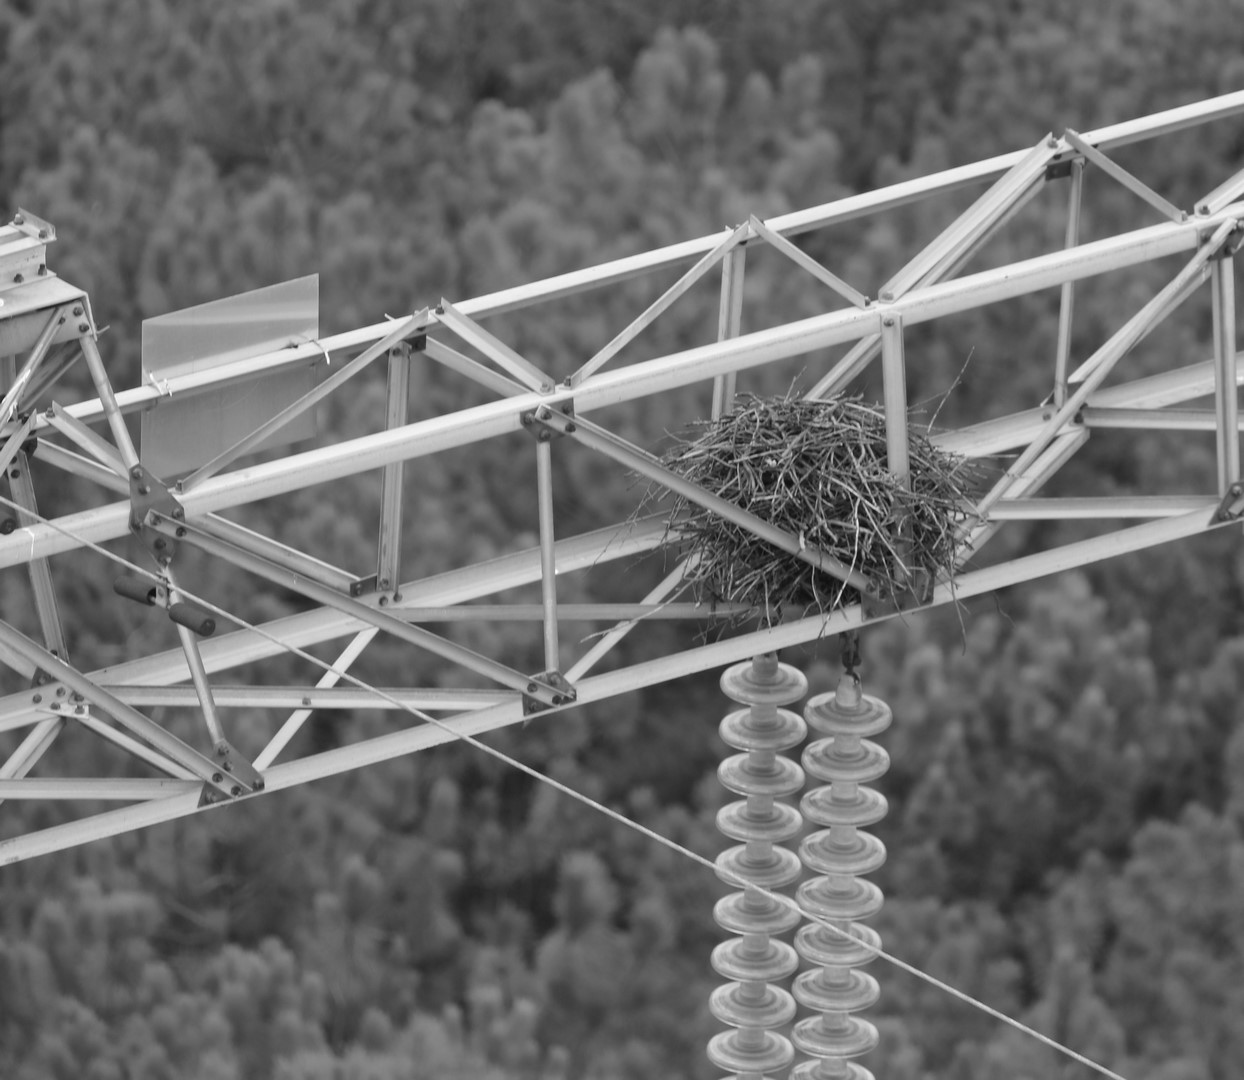niaowo: (648, 378, 996, 642)
